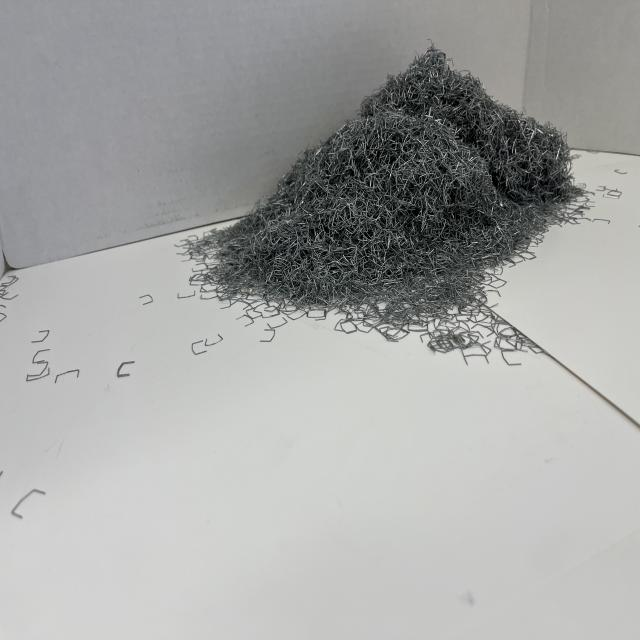staples: (178, 40, 586, 334)
